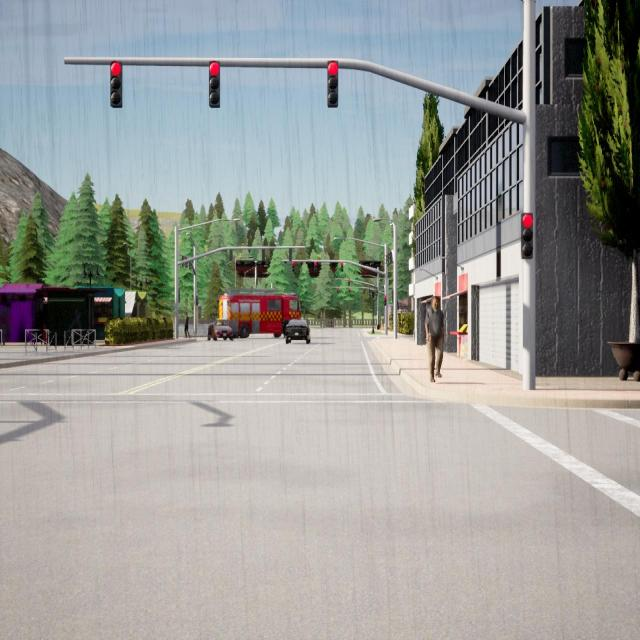Pedestrian: (425, 296, 444, 382), (185, 312, 190, 338)
Vehicle: (219, 293, 301, 337), (286, 321, 309, 344), (208, 322, 232, 340)
traffic_light: (521, 213, 533, 259), (209, 62, 220, 106), (111, 62, 122, 106), (328, 61, 338, 105), (289, 248, 292, 261), (262, 249, 265, 261), (185, 257, 188, 268), (292, 261, 295, 272), (314, 262, 317, 272), (178, 288, 180, 302), (384, 296, 387, 305), (230, 250, 232, 262), (386, 254, 388, 266), (388, 252, 390, 264), (390, 252, 392, 263), (182, 256, 184, 266), (341, 262, 343, 272), (196, 296, 198, 305), (189, 262, 191, 270), (348, 279, 350, 286), (363, 289, 365, 293), (337, 288, 338, 293), (349, 288, 350, 293)
